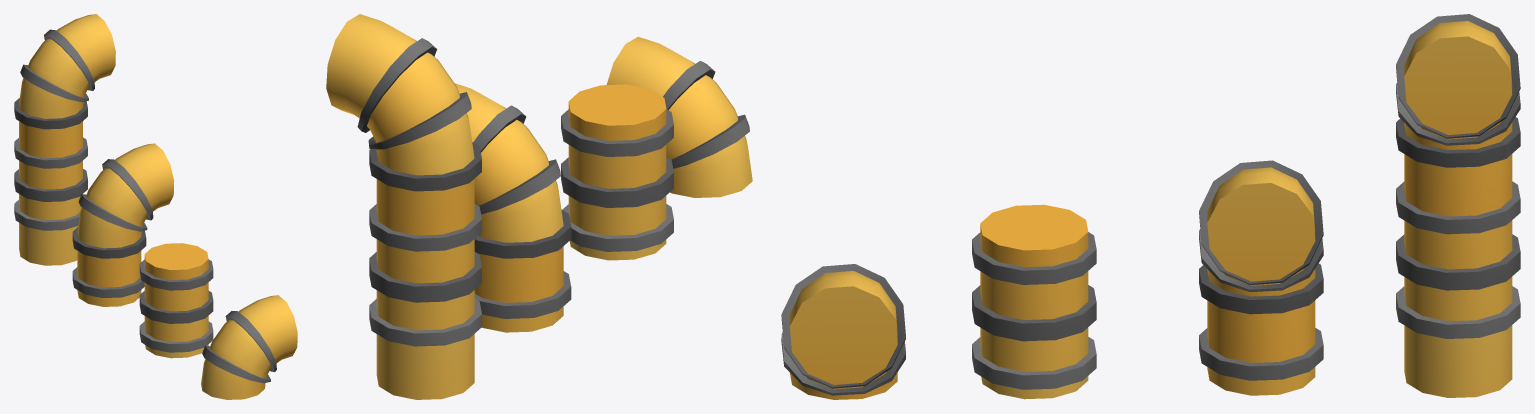
Rendered from Tuberias_Amarillas.fbx.
3 renders of one model, left to right at view 1: azimuth 30°, elevation 25°; view 2: azimuth 150°, elevation 25°; view 3: azimuth 270°, elevation 25°, orthographic. The views are drawn at different scales.
Parts seen in each view (by area): view 1: TuberiaAmarilla1, TuberiaAmarilla2, TuberiaAmarilla3, TuberiaAmarilla4; view 2: TuberiaAmarilla1, TuberiaAmarilla2, TuberiaAmarilla3, TuberiaAmarilla4; view 3: TuberiaAmarilla1, TuberiaAmarilla2, TuberiaAmarilla3, TuberiaAmarilla4.
Part boxes in pixels (x1,y1,x2,y2): TuberiaAmarilla1: (14,14,115,265); TuberiaAmarilla2: (72,143,174,306); TuberiaAmarilla3: (139,243,213,358); TuberiaAmarilla4: (201,295,297,399); TuberiaAmarilla1: (326,14,481,399); TuberiaAmarilla2: (454,83,571,332); TuberiaAmarilla3: (561,84,673,260); TuberiaAmarilla4: (606,36,752,197); TuberiaAmarilla1: (1396,14,1520,397); TuberiaAmarilla2: (1199,160,1323,395); TuberiaAmarilla3: (972,204,1096,399); TuberiaAmarilla4: (781,264,905,399).
Bounding box in the file's own units: 19.44 × 51.47 × 90.59.
